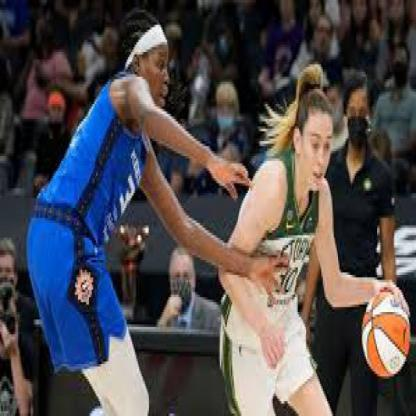basketball: (362, 290, 409, 379)
